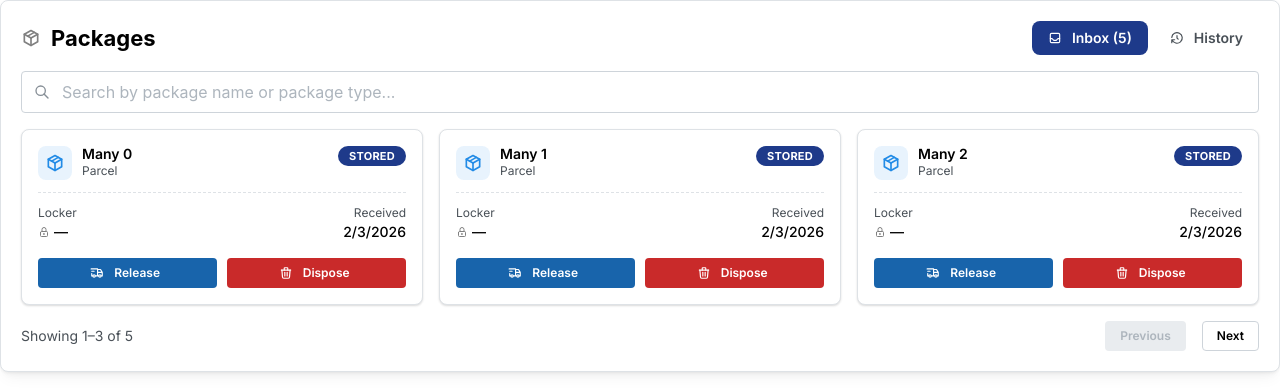
Test: UserPackages (user) component › shows pagination controls when packages exceed perPage
Click the button "Next" at x=1230, y=336, box left=1202, top=321, right=1259, bottom=351
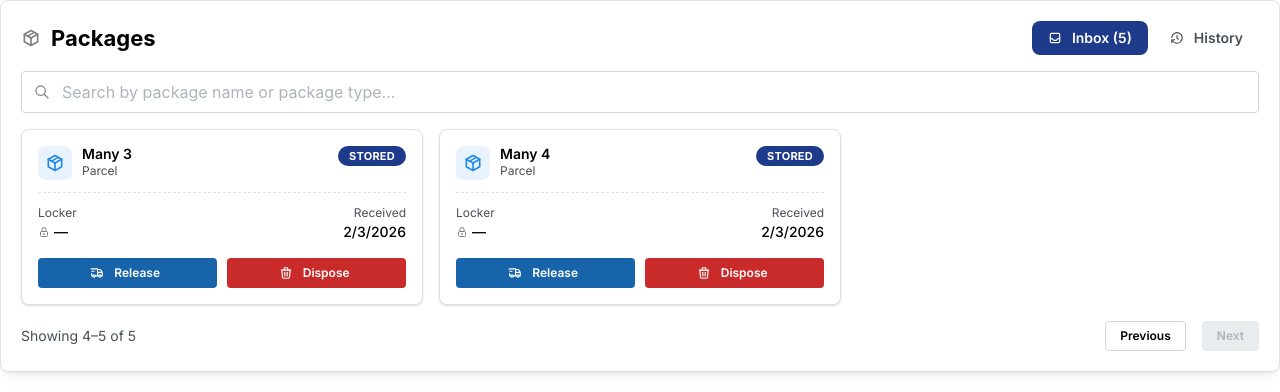
Check: the text "Many 3" is shown, box left=82, top=146, right=132, bottom=163
